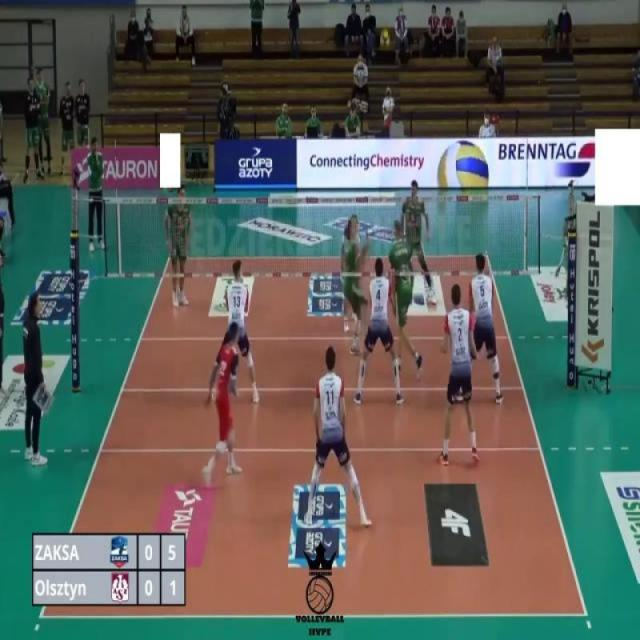volleyball: (436, 138, 490, 189), (380, 26, 390, 50)
